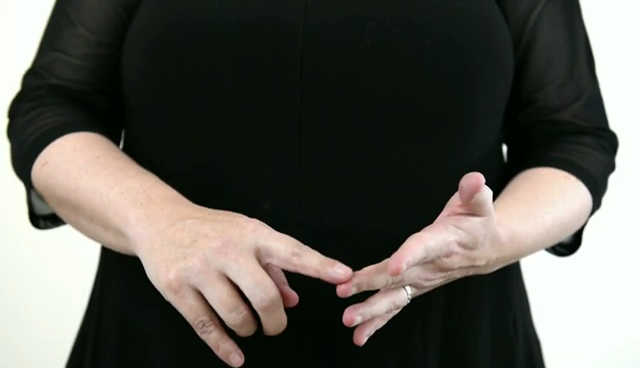I: (155, 163, 509, 367)
